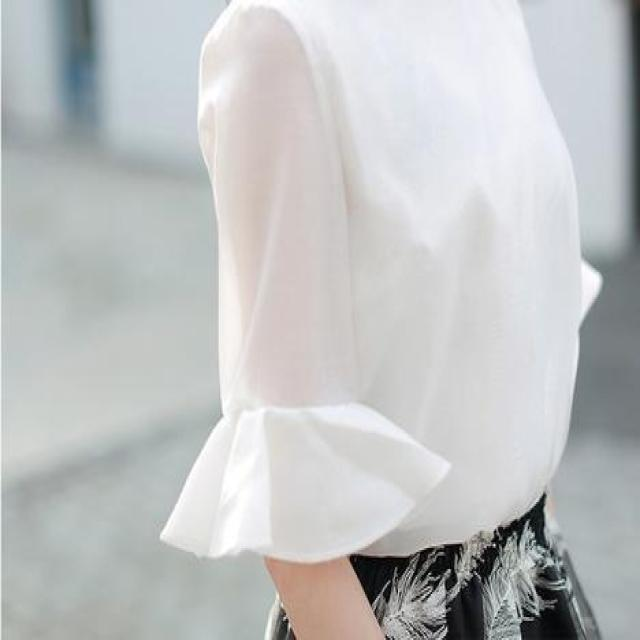short sleeve top: (160, 4, 580, 542)
skirt: (267, 492, 602, 638)
